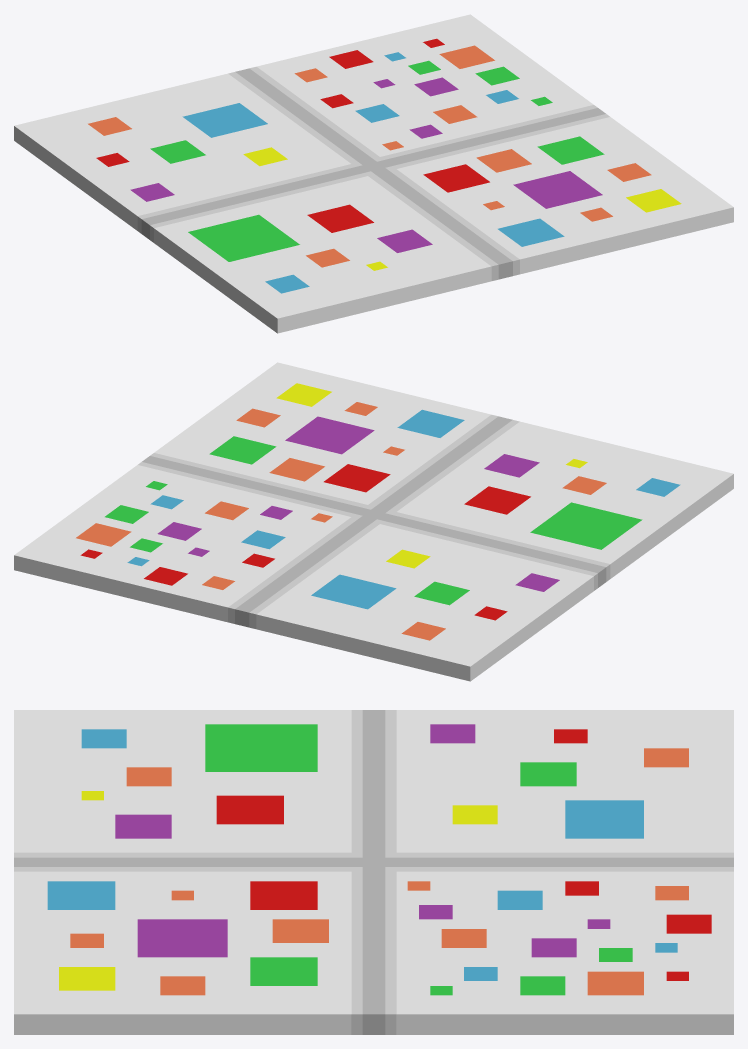
File: inside_classroom_2_lantai_kali_4.obj
The picture shows the model from 3 angles, top to bottom: view 1: azimuth 30°, elevation 25°; view 2: azimuth 150°, elevation 25°; view 3: azimuth 270°, elevation 25°; orthographic projection. The views are drawn at different scales.
Bounding box in the file's own units: 6.4 × 0.2 × 6.4.
1 material, 1 textured.
